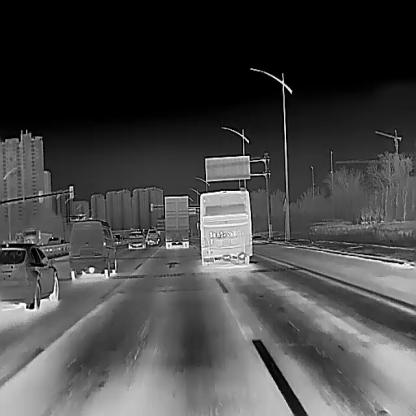bus: (199, 187, 251, 265)
car: (0, 243, 60, 308), (67, 218, 118, 280), (128, 230, 146, 249), (144, 227, 160, 245), (47, 236, 61, 243)
truck: (164, 195, 188, 248), (21, 228, 51, 244)
